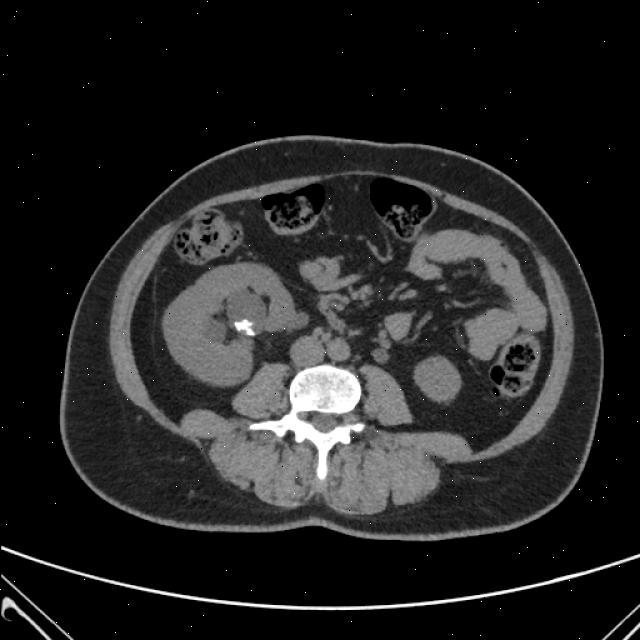kidneystone: (234, 319, 255, 336)
